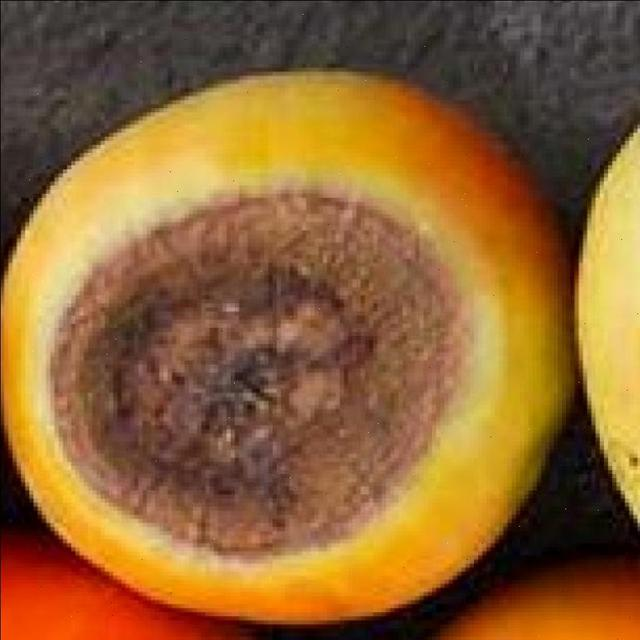Blossom End Rot Fruit: (33, 126, 313, 381)
